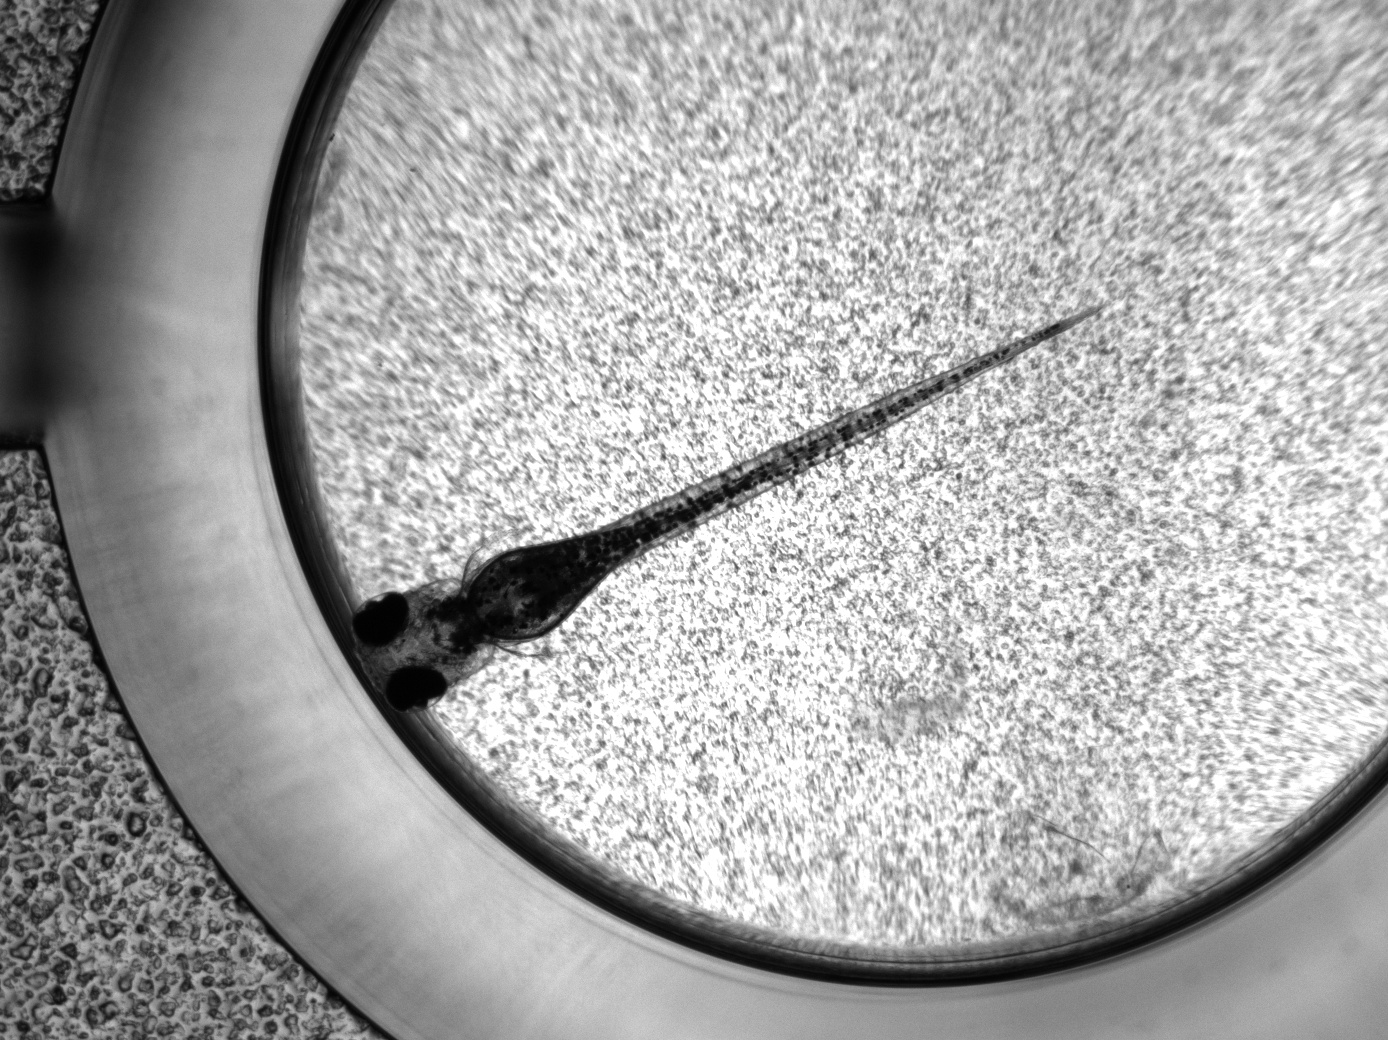embryo: (352, 295, 1117, 714)
eye: (354, 590, 410, 647), (384, 666, 447, 714)
yolksac: (472, 546, 576, 640)
